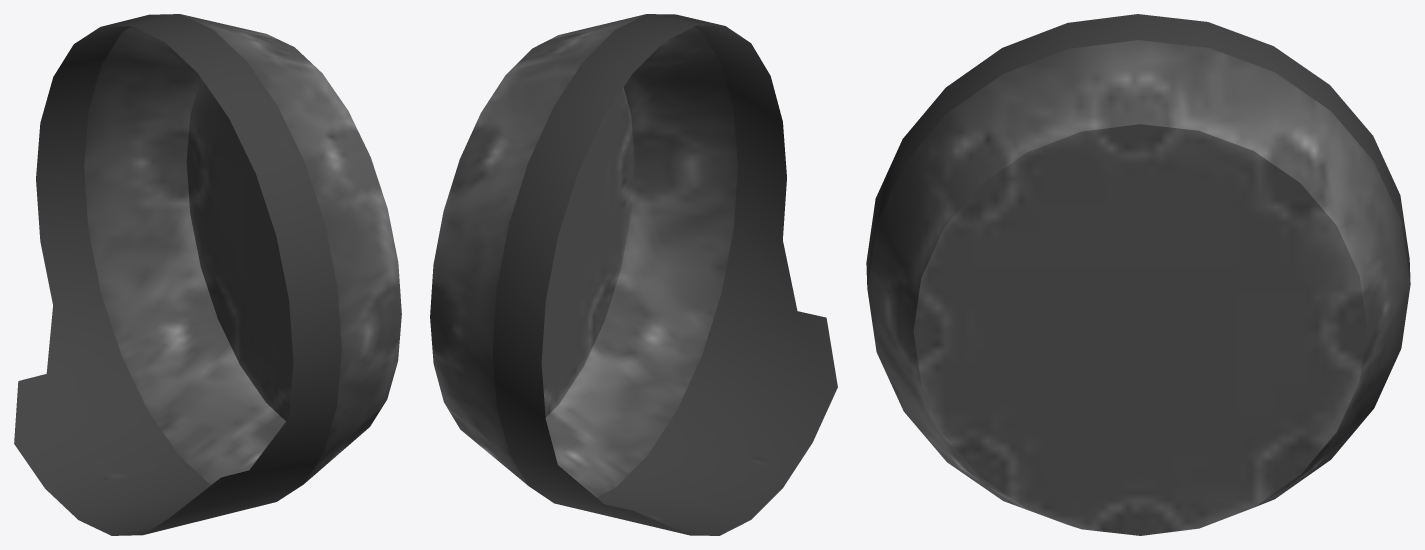
Rendered from WallWindow_Cap_B.glb.
3 renders of one model, left to right at view 1: azimuth 30°, elevation 25°; view 2: azimuth 150°, elevation 25°; view 3: azimuth 270°, elevation 25°, orthographic. The views are drawn at different scales.
Parts seen in each view (by area): view 1: WallWindow_Cap_B; view 2: WallWindow_Cap_B; view 3: WallWindow_Cap_B.
Part boxes in pixels (box(x1,y1,x2,y2)): WallWindow_Cap_B: box(14, 14, 401, 535); WallWindow_Cap_B: box(430, 14, 837, 535); WallWindow_Cap_B: box(866, 14, 1410, 535).
Bounding box in the file's own units: 0.2008 × 0.3958 × 0.3953.
Materials: 2 (2 with a texture image).
